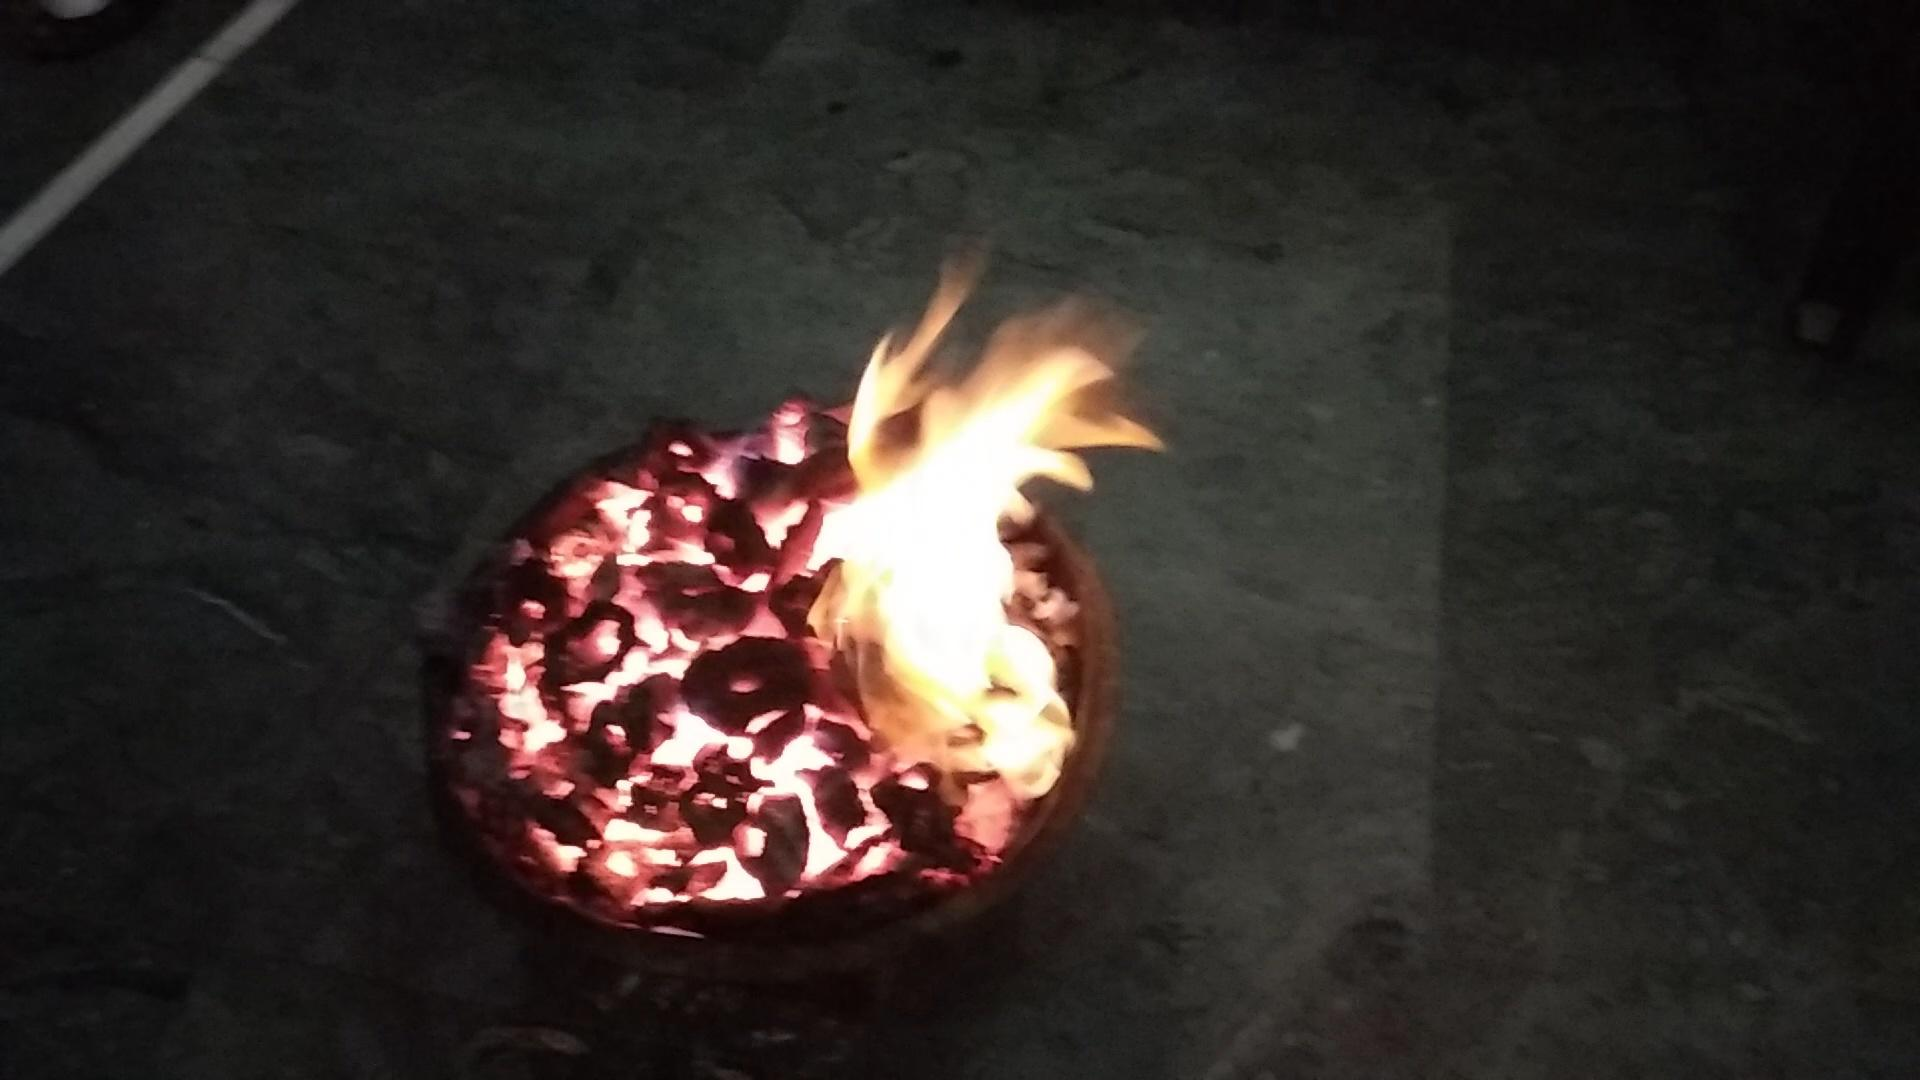fire: (853, 361, 1106, 791)
